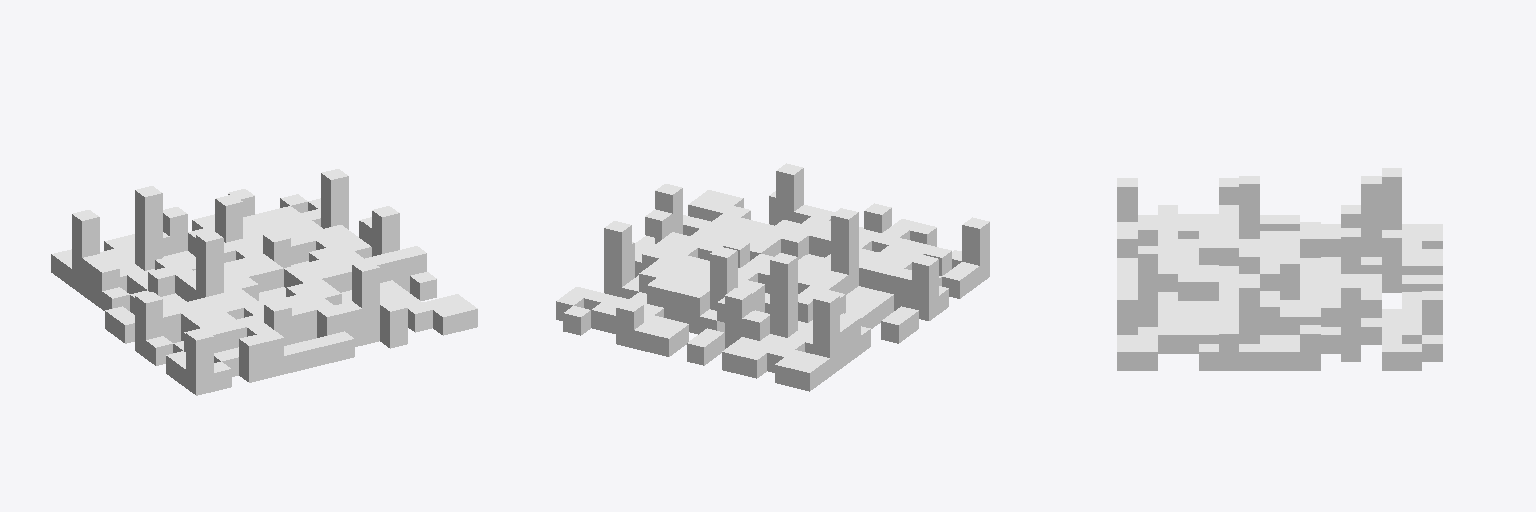
Rendered from path_grass2.obj.
3 views of the same model, side by side, from view 1: azimuth 30°, elevation 25°; view 2: azimuth 150°, elevation 25°; view 3: azimuth 270°, elevation 25° (orthographic).
Visible parts, largest first — view 1: object 1; view 2: object 1; view 3: object 1.
Boxes of the visible parts, x1,y1,x2,y2 form: object 1: [51, 169, 477, 395]; object 1: [556, 163, 989, 391]; object 1: [1117, 168, 1442, 370].
Bounding box in the file's own units: 1.6 × 0.5 × 1.6.